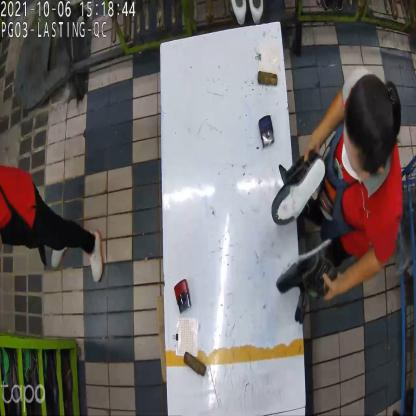shoes: (271, 158, 341, 328)
stamp: (256, 116, 276, 150), (175, 281, 193, 316)
